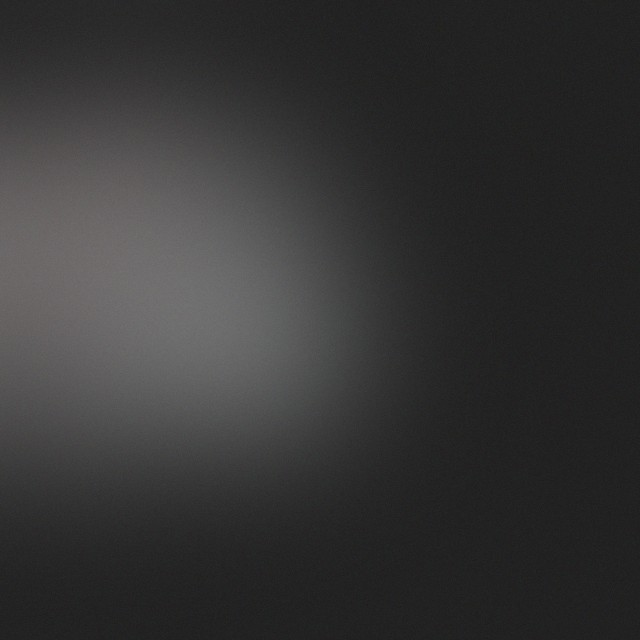smoke: (42, 155, 334, 447)
